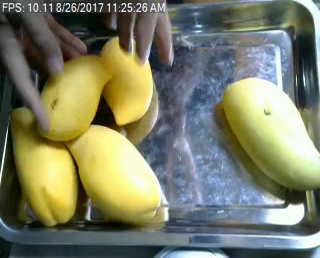Mango: (222, 75, 320, 190), (58, 122, 160, 223), (6, 107, 78, 224), (34, 52, 114, 140), (96, 35, 153, 127)
